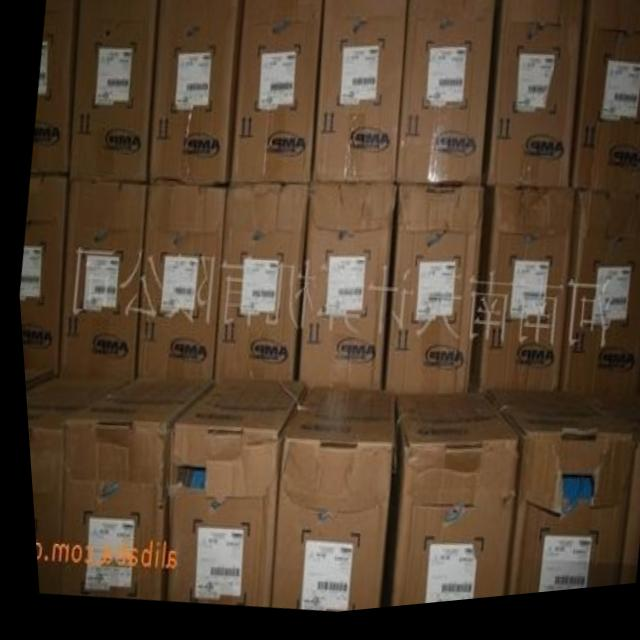box: (53, 381, 207, 599), (158, 382, 299, 610), (474, 401, 627, 605), (262, 392, 394, 617), (378, 396, 512, 614), (20, 375, 127, 592), (376, 190, 481, 405), (463, 195, 569, 403), (292, 191, 394, 399), (481, 0, 585, 199), (392, 0, 495, 195), (145, 0, 245, 191), (309, 0, 408, 189), (227, 0, 323, 191), (131, 189, 225, 383), (210, 191, 305, 382), (53, 181, 143, 380), (555, 203, 640, 413), (66, 0, 161, 187), (570, 0, 640, 210), (16, 175, 64, 373), (29, 0, 83, 175), (594, 406, 640, 596), (19, 369, 53, 392)
